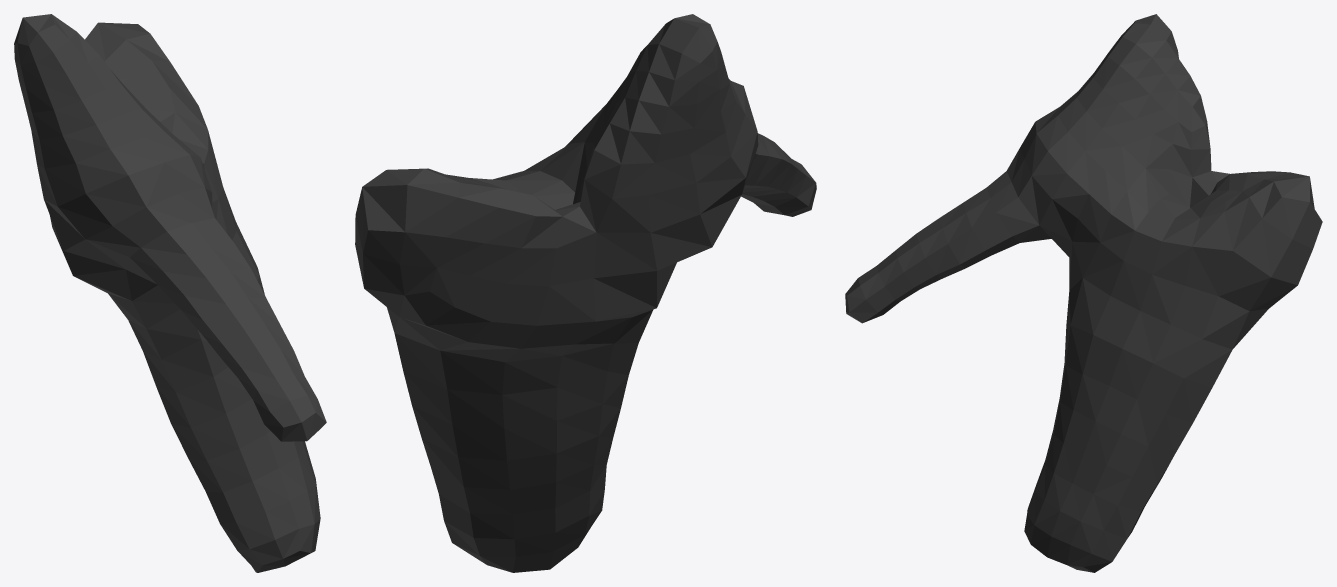
3 renders of one model, left to right at view 1: azimuth 30°, elevation 25°; view 2: azimuth 150°, elevation 25°; view 3: azimuth 270°, elevation 25°, orthographic. The views are drawn at different scales.
Visible parts, largest first — view 1: world; view 2: world; view 3: world.
Part boxes in pixels (x1,y1,x2,y2): world: (14,14,326,572); world: (355,14,816,572); world: (845,14,1322,572).
Bounding box in the file's own units: 0.0536 × 0.1103 × 0.1017.
Materials: 1 (1 with a texture image).
